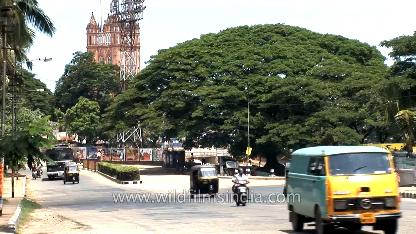auto-rikshaw: (186, 163, 222, 198), (62, 163, 82, 185)
bike: (230, 166, 252, 208), (30, 164, 40, 180)
car: (286, 146, 406, 234)
priority: (45, 144, 75, 178)
